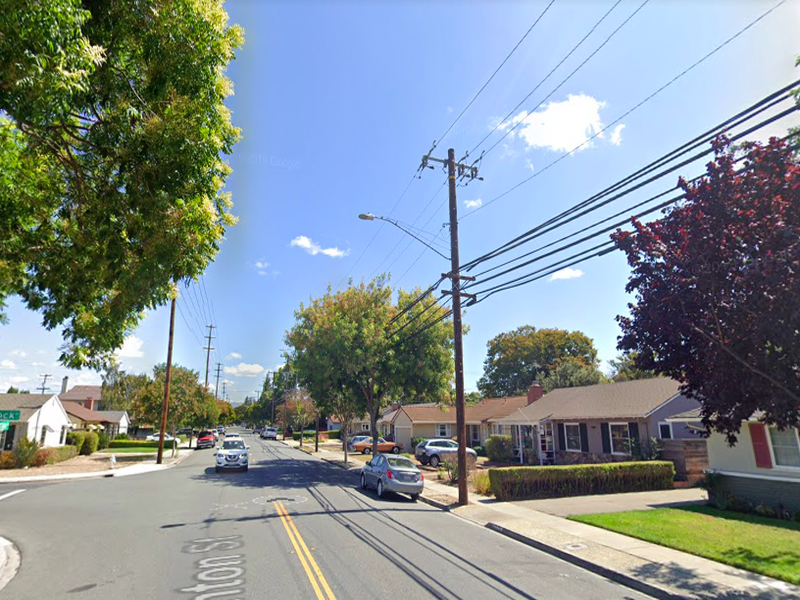tree: (278, 269, 452, 457)
utility_pole: (413, 137, 488, 206), (199, 318, 219, 354)
